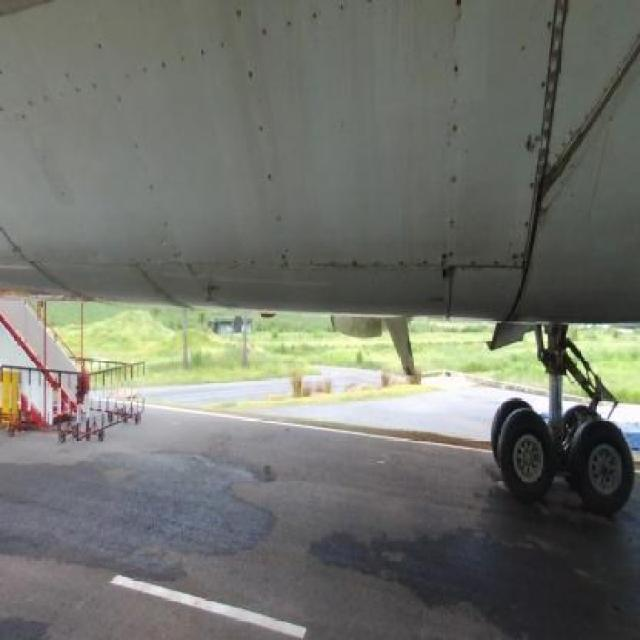Missing-Rivet: (110, 70, 178, 258), (240, 61, 297, 268), (441, 16, 479, 264), (161, 31, 344, 80), (295, 244, 457, 285)
Rust: (525, 121, 540, 170)
